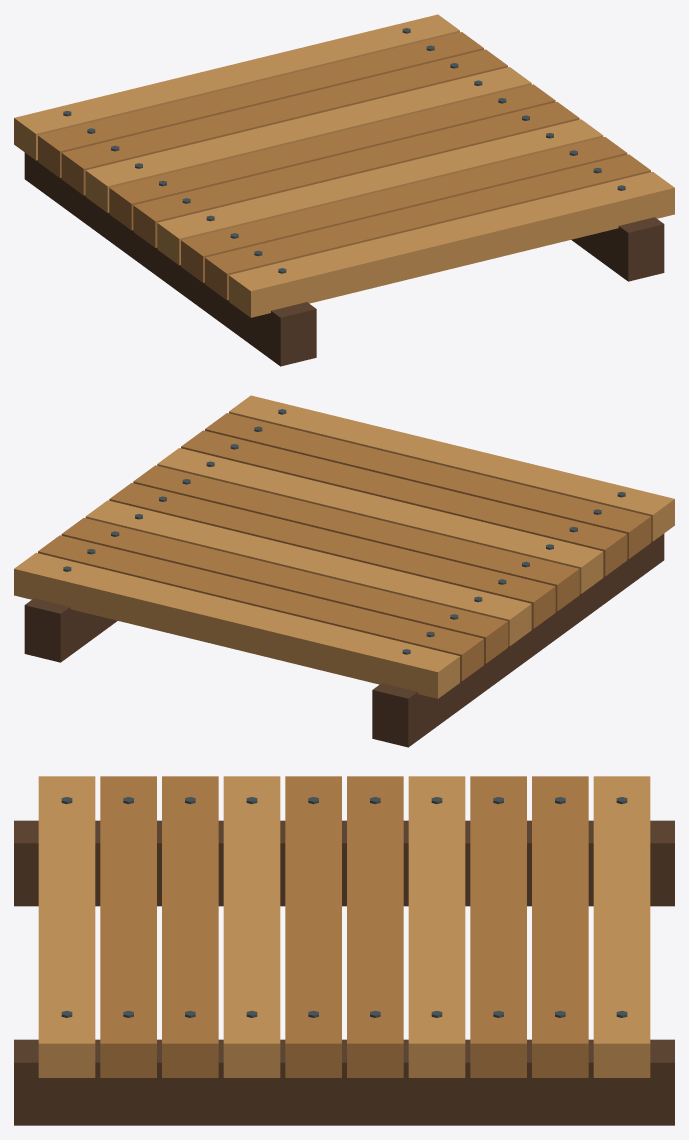
File: fishing_deck__fishing_platform.glb
3 renders of one model, top to bottom at view 1: azimuth 30°, elevation 25°; view 2: azimuth 150°, elevation 25°; view 3: azimuth 270°, elevation 25°, orthographic. The views are drawn at different scales.
Parts seen in each view (by area): view 1: fishing_platform__wood2.001, fishing_platform__wood3.001, fishing_platform__wood_dark.001, fishing_platform__metal.001; view 2: fishing_platform__wood2.001, fishing_platform__wood3.001, fishing_platform__wood_dark.001, fishing_platform__metal.001; view 3: fishing_platform__wood2.001, fishing_platform__wood3.001, fishing_platform__wood_dark.001, fishing_platform__metal.001.
Boxes of the visible parts, left/top/right/bottom form: fishing_platform__wood2.001: left=38, top=32, right=650, bottom=300; fishing_platform__wood3.001: left=14, top=14, right=674, bottom=317; fishing_platform__wood_dark.001: left=24, top=152, right=664, bottom=366; fishing_platform__metal.001: left=63, top=28, right=625, bottom=273; fishing_platform__wood2.001: left=38, top=413, right=650, bottom=681; fishing_platform__wood3.001: left=14, top=395, right=674, bottom=698; fishing_platform__wood_dark.001: left=24, top=533, right=664, bottom=747; fishing_platform__metal.001: left=63, top=409, right=625, bottom=654; fishing_platform__wood2.001: left=100, top=776, right=588, bottom=1077; fishing_platform__wood3.001: left=38, top=776, right=650, bottom=1077; fishing_platform__wood_dark.001: left=14, top=820, right=674, bottom=1125; fishing_platform__metal.001: left=61, top=797, right=627, bottom=1017.
Size of the model in its own units: 2 by 0.343 by 2.09.
